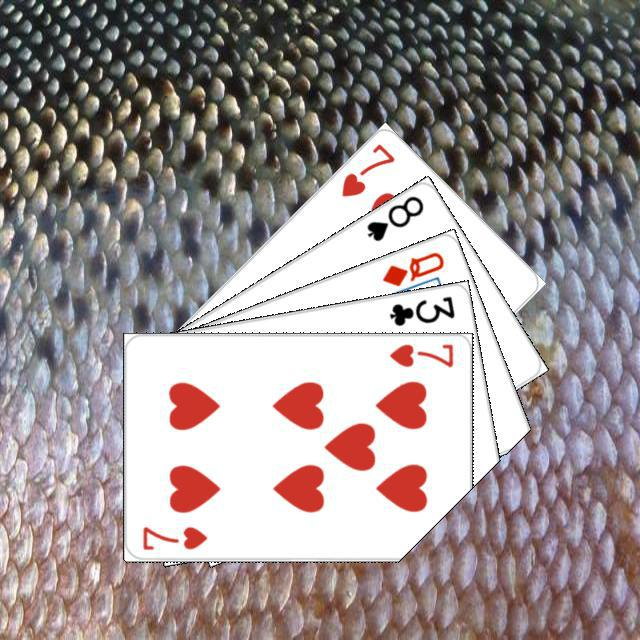3c: (384, 291, 456, 328)
7h: (336, 138, 397, 199), (138, 521, 209, 551), (385, 339, 455, 369)
8s: (361, 190, 426, 243)
Qd: (377, 246, 446, 288)
